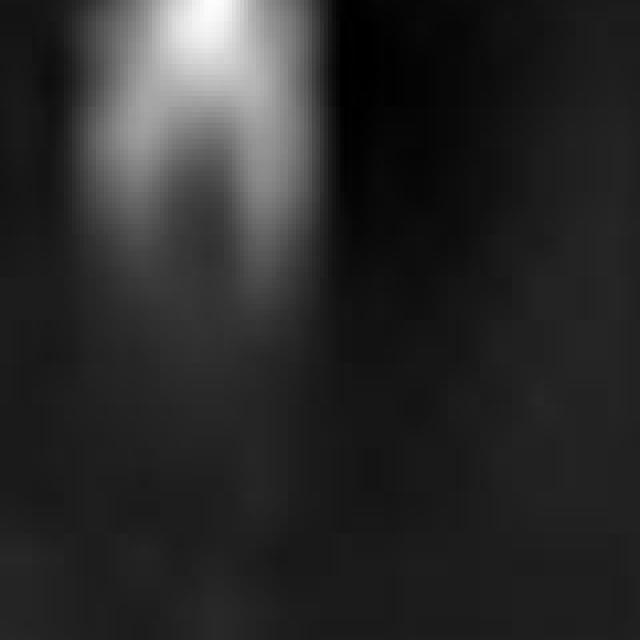person: (53, 1, 333, 284)
